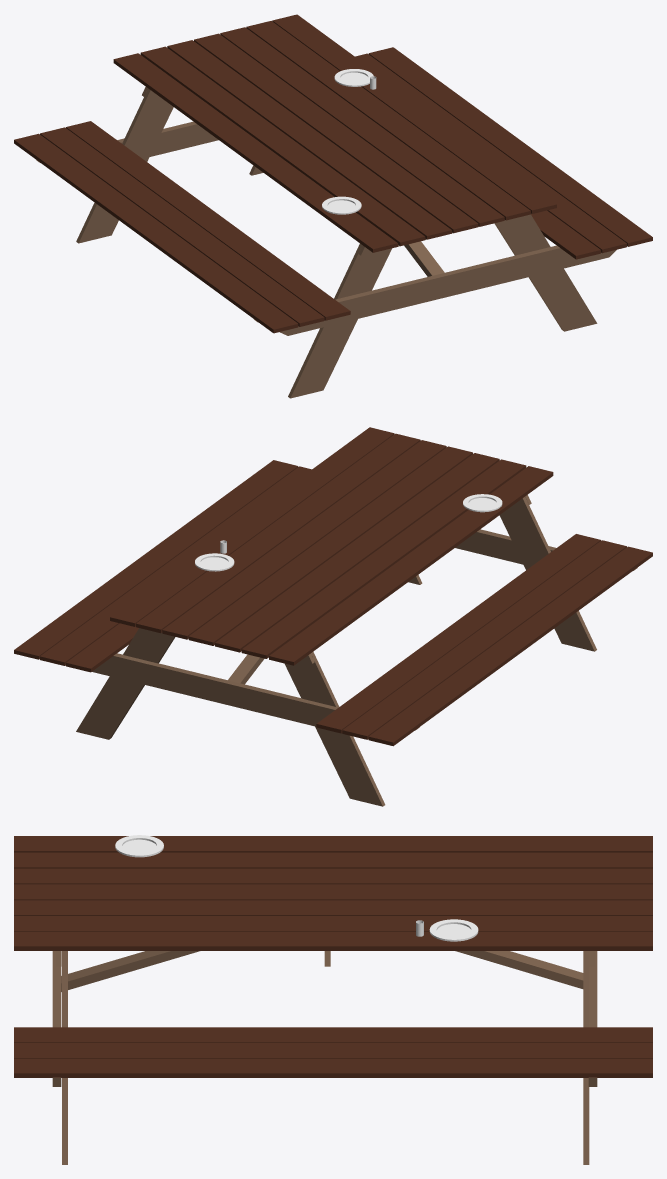
File: picnic_table_-_lowpoly.glb
3 views of the same model, one above another, from view 1: azimuth 30°, elevation 25°; view 2: azimuth 150°, elevation 25°; view 3: azimuth 270°, elevation 25° (orthographic). The views are drawn at different scales.
Parts seen in each view (by area): view 1: MESA_0, BANCO 1_3, PE 1_1, BANCO 2_2, PE 2_4, SUPORTE_5, Cylinder.003_9, Cylinder_6; view 2: MESA_0, BANCO 1_3, PE 2_4, BANCO 2_2, PE 1_1, SUPORTE_5, Cylinder_6, Cylinder.003_9; view 3: MESA_0, BANCO 2_2, SUPORTE_5, PE 1_1, PE 2_4, Cylinder_6, Cylinder.003_9.
Part boxes in pixels (left/top/right/bottom): MESA_0: left=113, top=14, right=556, bottom=252; BANCO 1_3: left=14, top=121, right=350, bottom=333; PE 1_1: left=254, top=213, right=616, bottom=398; BANCO 2_2: left=355, top=47, right=652, bottom=259; PE 2_4: left=36, top=87, right=218, bottom=243; SUPORTE_5: left=249, top=165, right=444, bottom=276; Cylinder.003_9: left=322, top=196, right=361, bottom=214; Cylinder_6: left=334, top=69, right=373, bottom=86; MESA_0: left=110, top=427, right=553, bottom=665; BANCO 1_3: left=316, top=534, right=652, bottom=746; PE 2_4: left=76, top=628, right=419, bottom=806; BANCO 2_2: left=14, top=460, right=311, bottom=672; PE 1_1: left=455, top=495, right=637, bottom=651; SUPORTE_5: left=228, top=574, right=422, bottom=684; Cylinder_6: left=195, top=553, right=234, bottom=571; Cylinder.003_9: left=463, top=494, right=502, bottom=512; MESA_0: left=14, top=836, right=652, bottom=950; BANCO 2_2: left=14, top=1027, right=652, bottom=1077; SUPORTE_5: left=61, top=951, right=583, bottom=991; PE 1_1: left=52, top=951, right=67, bottom=1164; PE 2_4: left=583, top=951, right=597, bottom=1164; Cylinder_6: left=429, top=919, right=478, bottom=941; Cylinder.003_9: left=115, top=835, right=163, bottom=857.
Size of the model in its own units: 2.23 by 0.8905 by 2.64.
